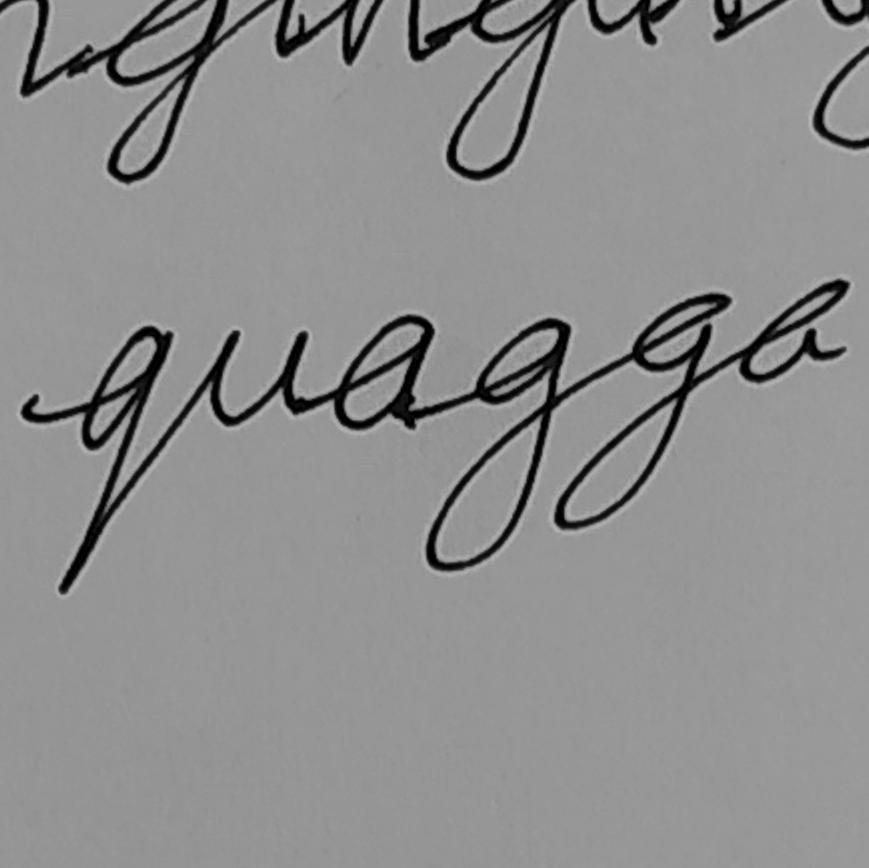a: (329, 311, 438, 435), (737, 273, 850, 389)
g: (548, 284, 728, 532), (415, 312, 576, 574)
q: (52, 322, 176, 598)
u: (207, 321, 311, 433)
